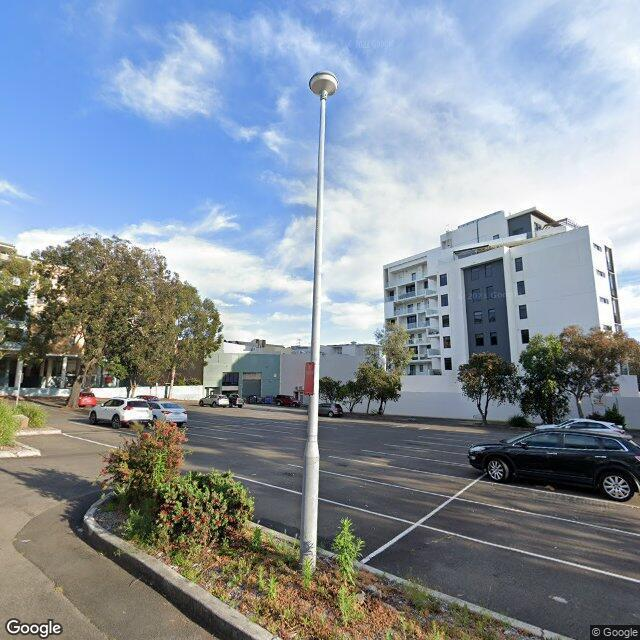steel-pole: (300, 100, 326, 576)
streetlight: (309, 70, 339, 101)
